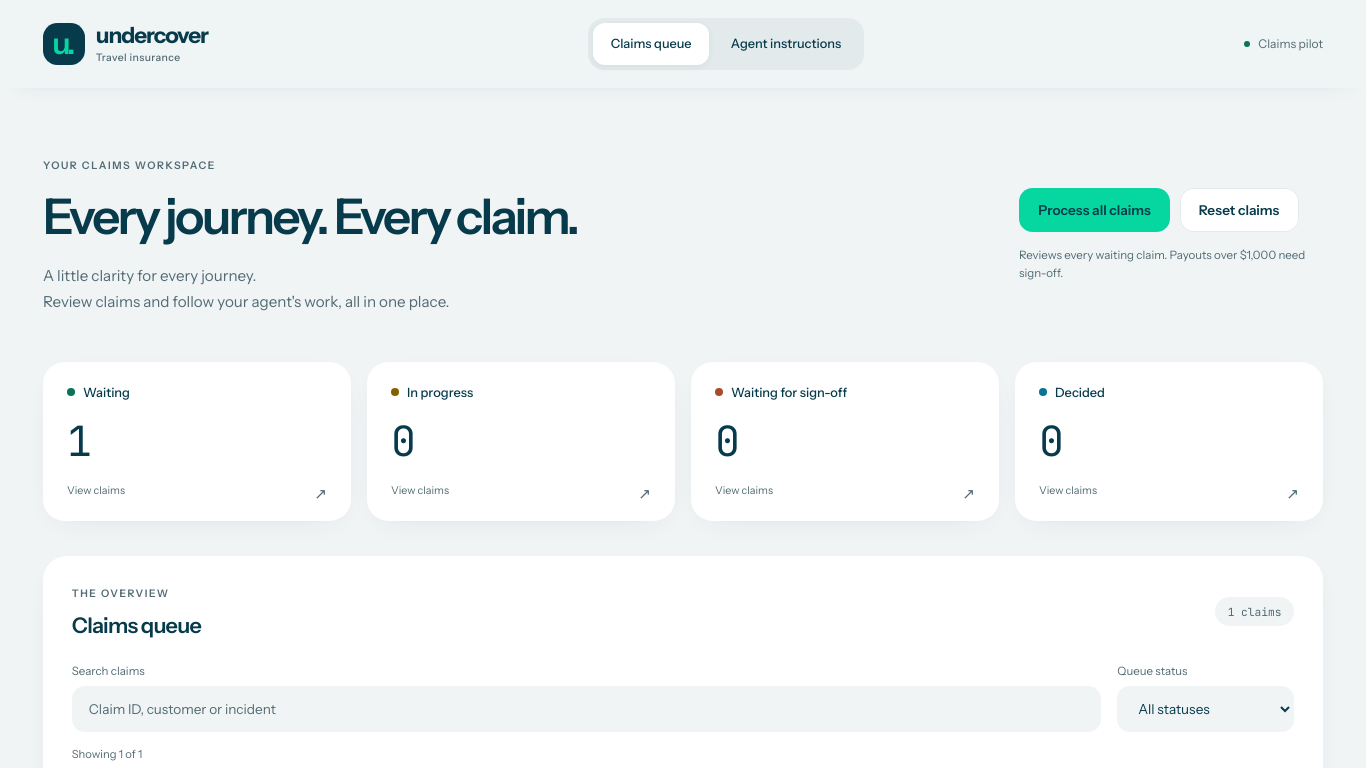
shows a bulk start failure and allows another attempt
The image size is (1366, 768).
Click the button "Process all claims". click: [1094, 210]
box: [1019,188,1170,232]
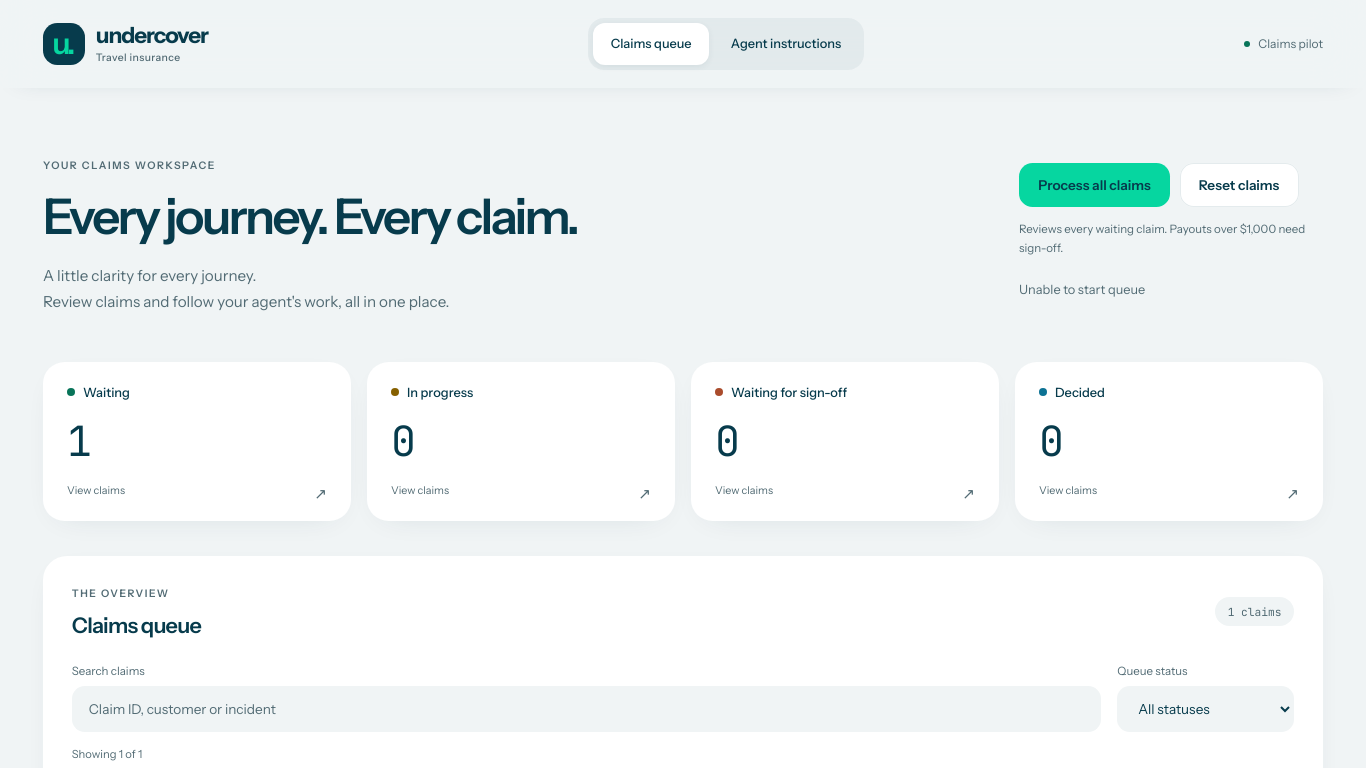
Expected: the button "Process all claims" is enabled, [1019,163,1170,207]
Expected: the text "Unable to start queue" is shown, [1019,279,1145,300]
